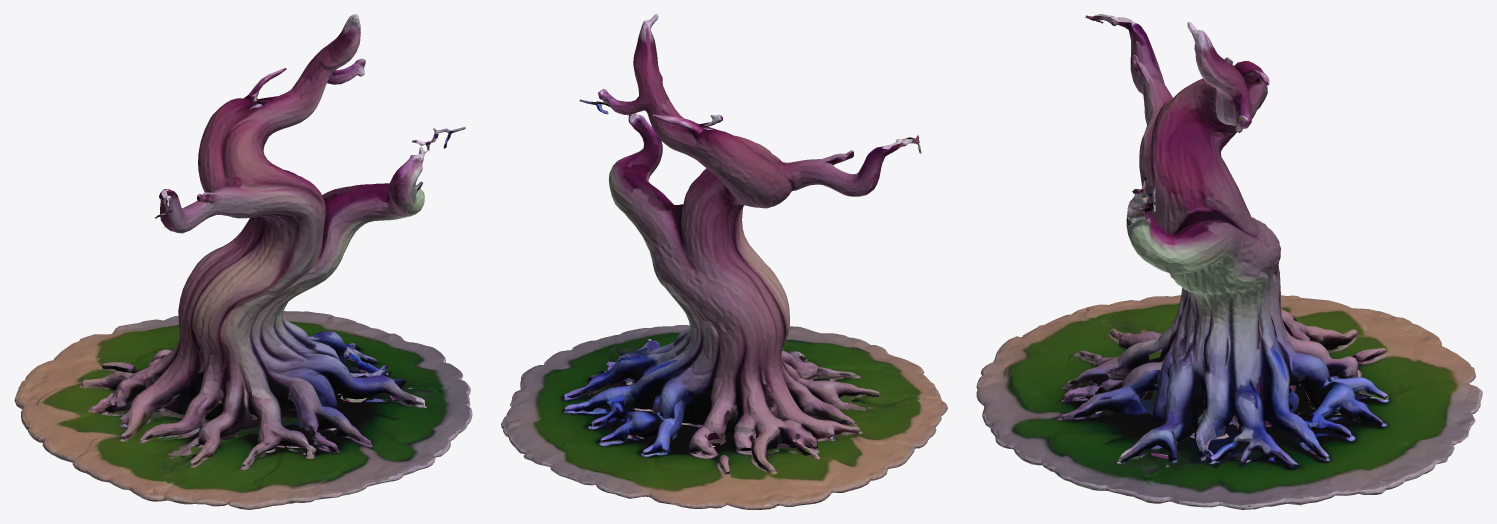
Rendered from giant_sakura_tree.glb.
The picture shows the model from 3 angles, left to right: view 1: azimuth 30°, elevation 25°; view 2: azimuth 150°, elevation 25°; view 3: azimuth 270°, elevation 25°; orthographic projection. The views are drawn at different scales.
Parts seen in each view (by area): view 1: tmputgqly12.ply; view 2: tmputgqly12.ply; view 3: tmputgqly12.ply.
Boxes of the visible parts, x1,y1,x2,y2 form: tmputgqly12.ply: (14,14,472,509); tmputgqly12.ply: (501,14,947,509); tmputgqly12.ply: (976,14,1482,509).
Size of the model in its own units: 1.99 by 1.88 by 1.99.
1 material, 1 textured.
